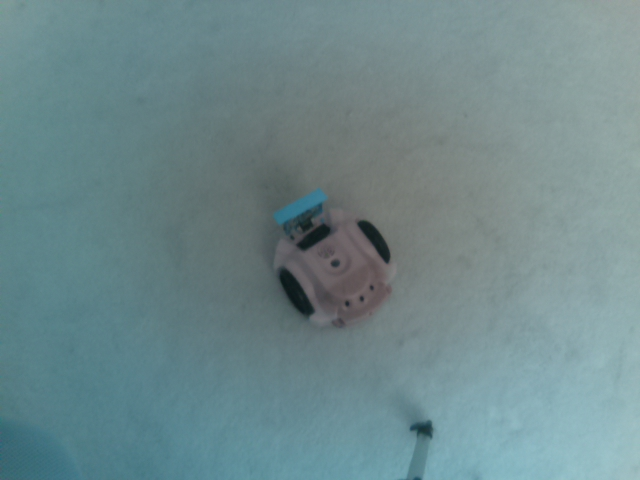board: (271, 186, 332, 236)
chassis: (268, 189, 403, 332)
